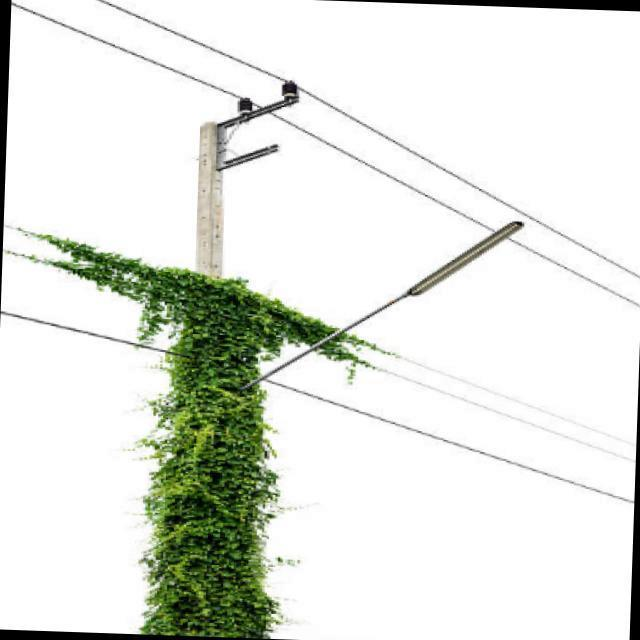critical vegetation: (128, 103, 314, 629)
